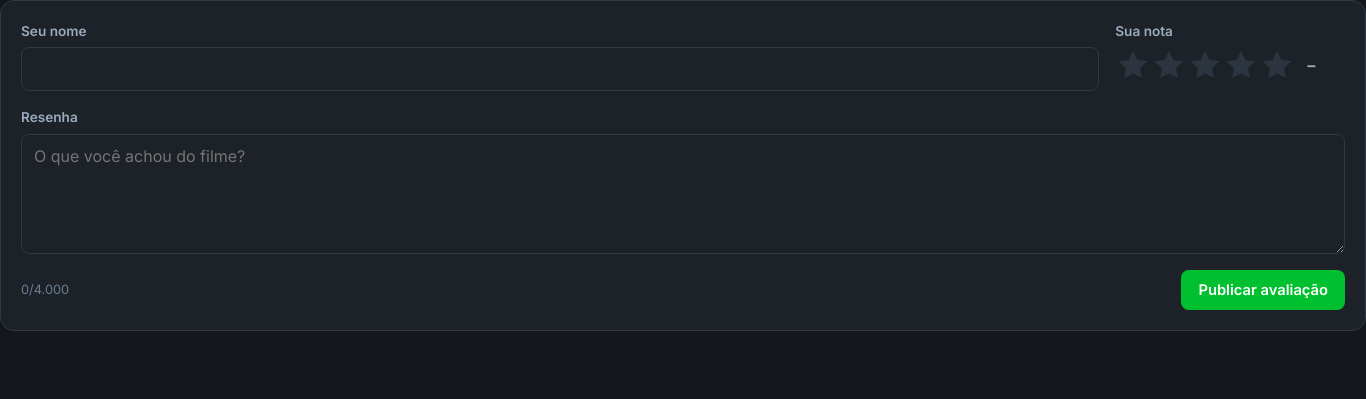
it: ReviewForm › valida os campos antes de enviar
The width and height of the screenshot is (1366, 399).
Click the button "Publicar avaliação": (1263, 290) 1181,270 -> 1345,310
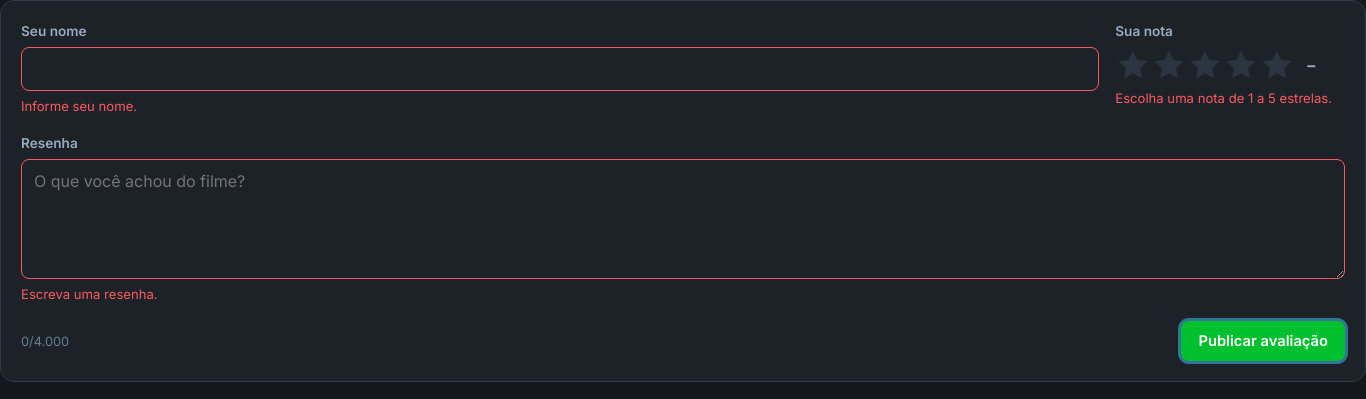
Now the text "Informe seu nome." is shown, box 21,98 -> 137,114
Now the text "Escolha uma nota de 1 a 5 estrelas." is shown, box 1115,89 -> 1345,109
Now the text "Escreva uma resenha." is shown, box 21,286 -> 158,302
